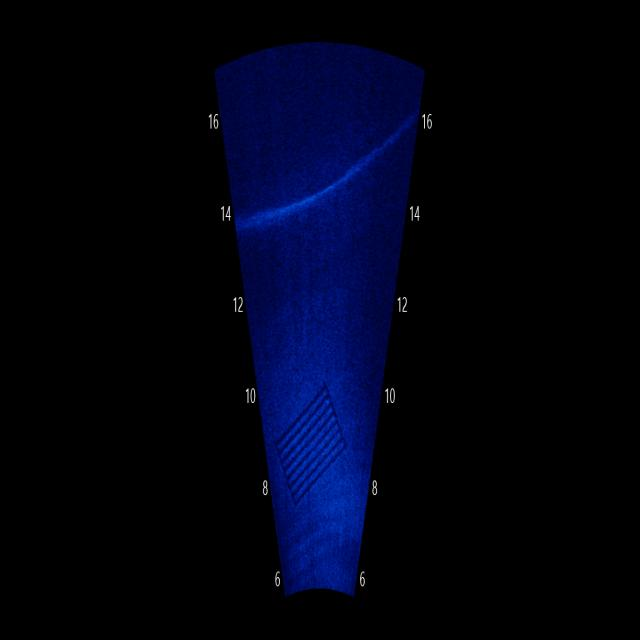square: (268, 376, 352, 508)
